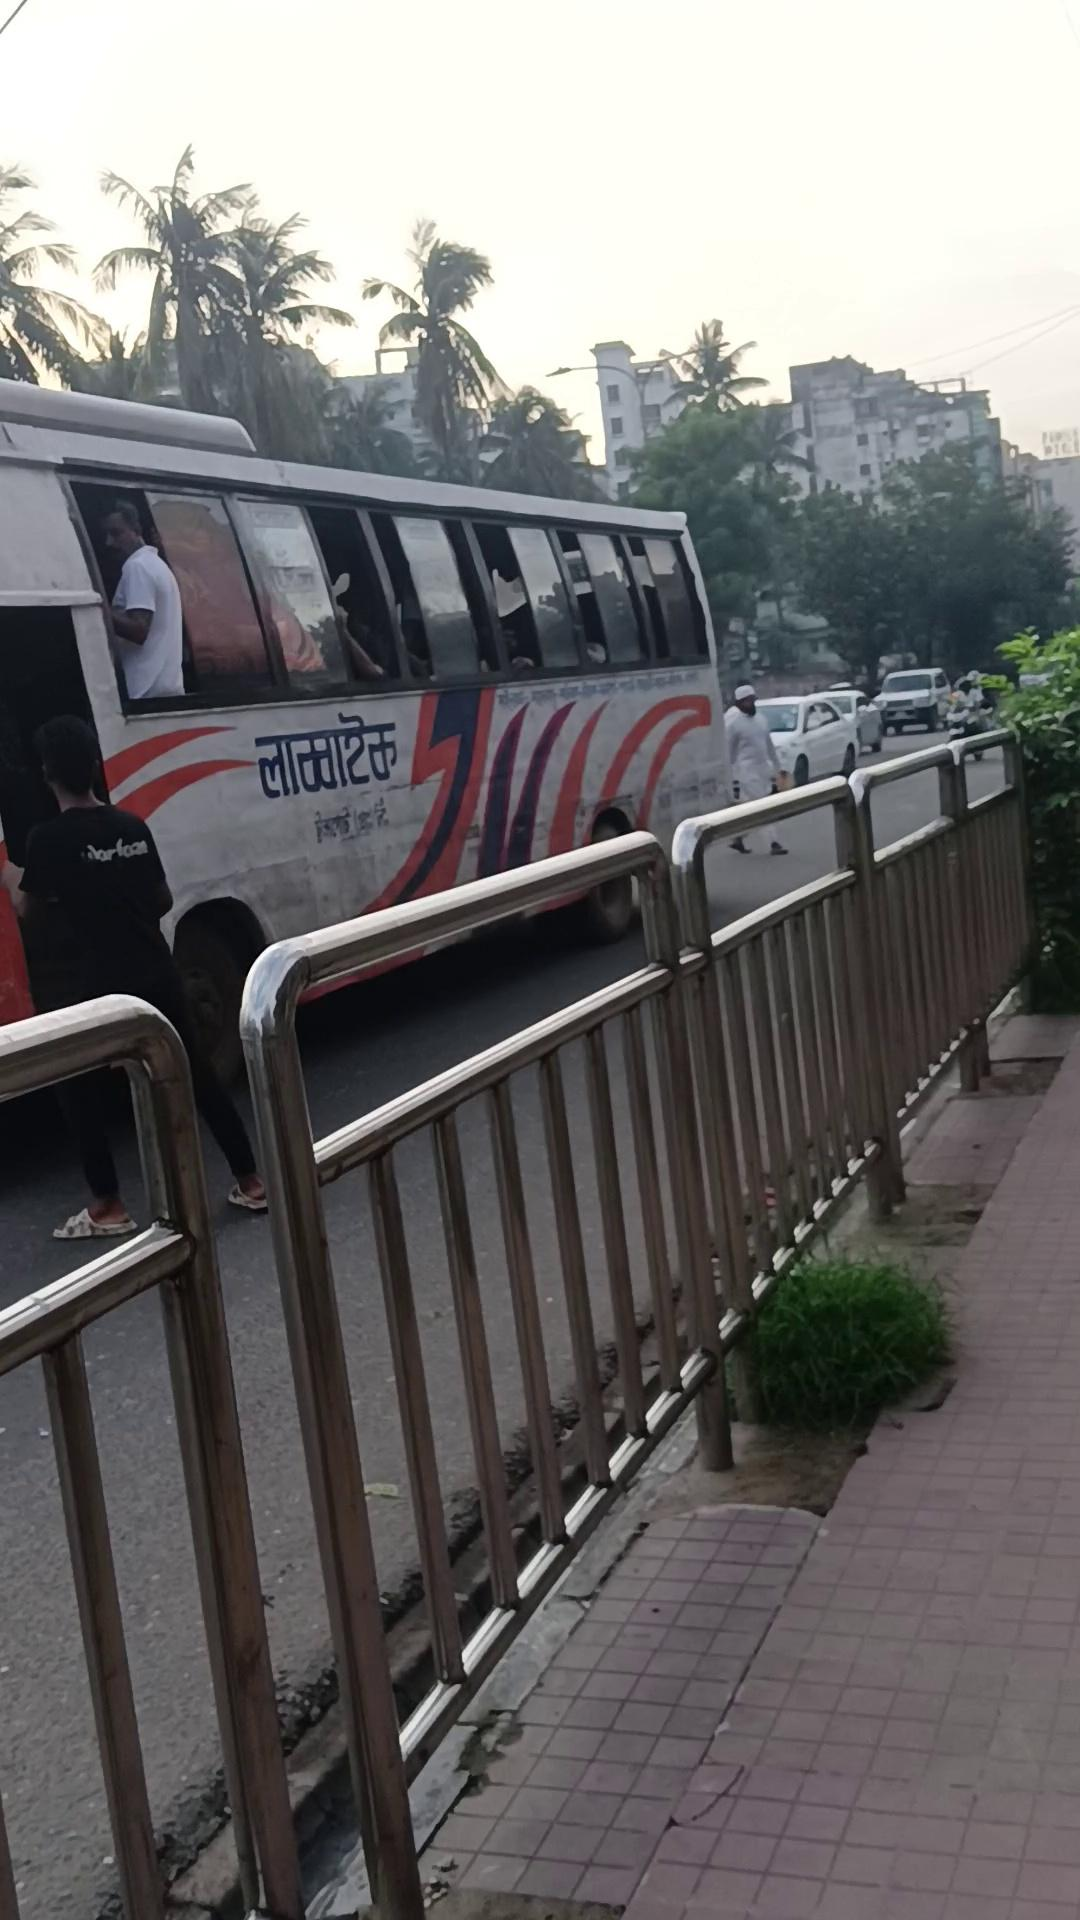Light-pole: (943, 671, 996, 761)
Muddy road: (13, 713, 268, 1240), (99, 500, 186, 700), (723, 683, 789, 855)
Potted-plant: (345, 1015, 1077, 1917)
Traffic-sign: (3, 373, 737, 1102)
